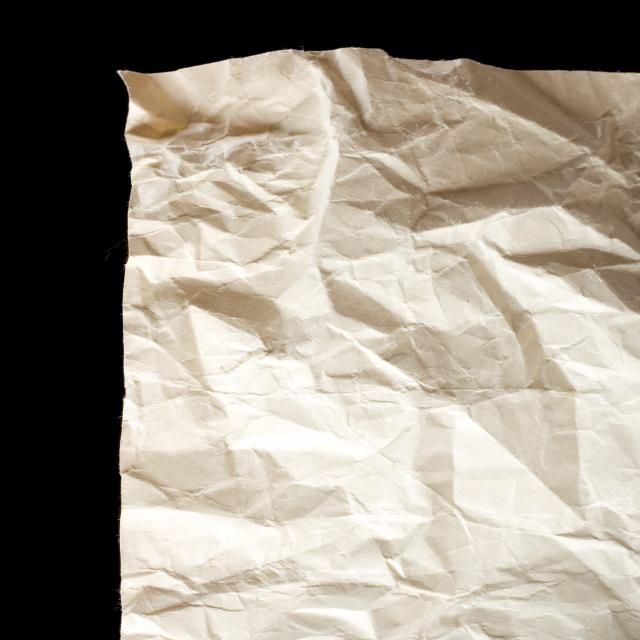paper: (203, 112, 572, 526)
